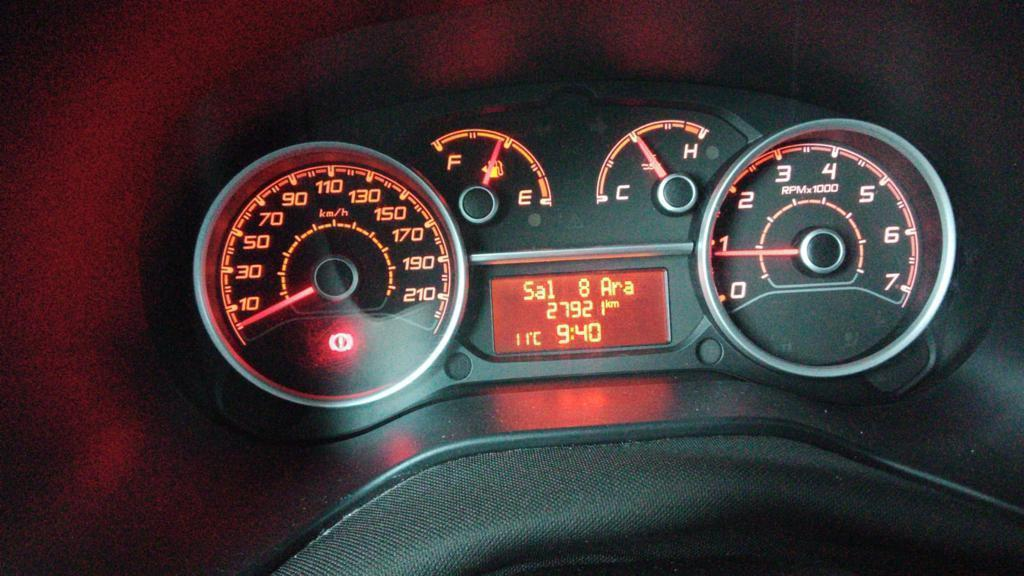0: (588, 322, 601, 343)
1: (513, 331, 521, 347), (598, 299, 605, 316), (523, 331, 529, 347)
2: (545, 301, 558, 320), (581, 299, 594, 317)
4: (574, 323, 588, 342)
7: (558, 301, 569, 319)
8: (577, 277, 590, 298)
9: (554, 323, 569, 344), (569, 300, 581, 318)
X: (521, 279, 535, 301), (598, 275, 612, 297), (546, 278, 556, 300), (622, 280, 635, 295), (611, 280, 623, 295), (535, 284, 546, 300), (532, 330, 542, 346), (610, 300, 620, 308), (604, 298, 610, 308), (570, 326, 574, 340)
odometer: (485, 265, 675, 358)
